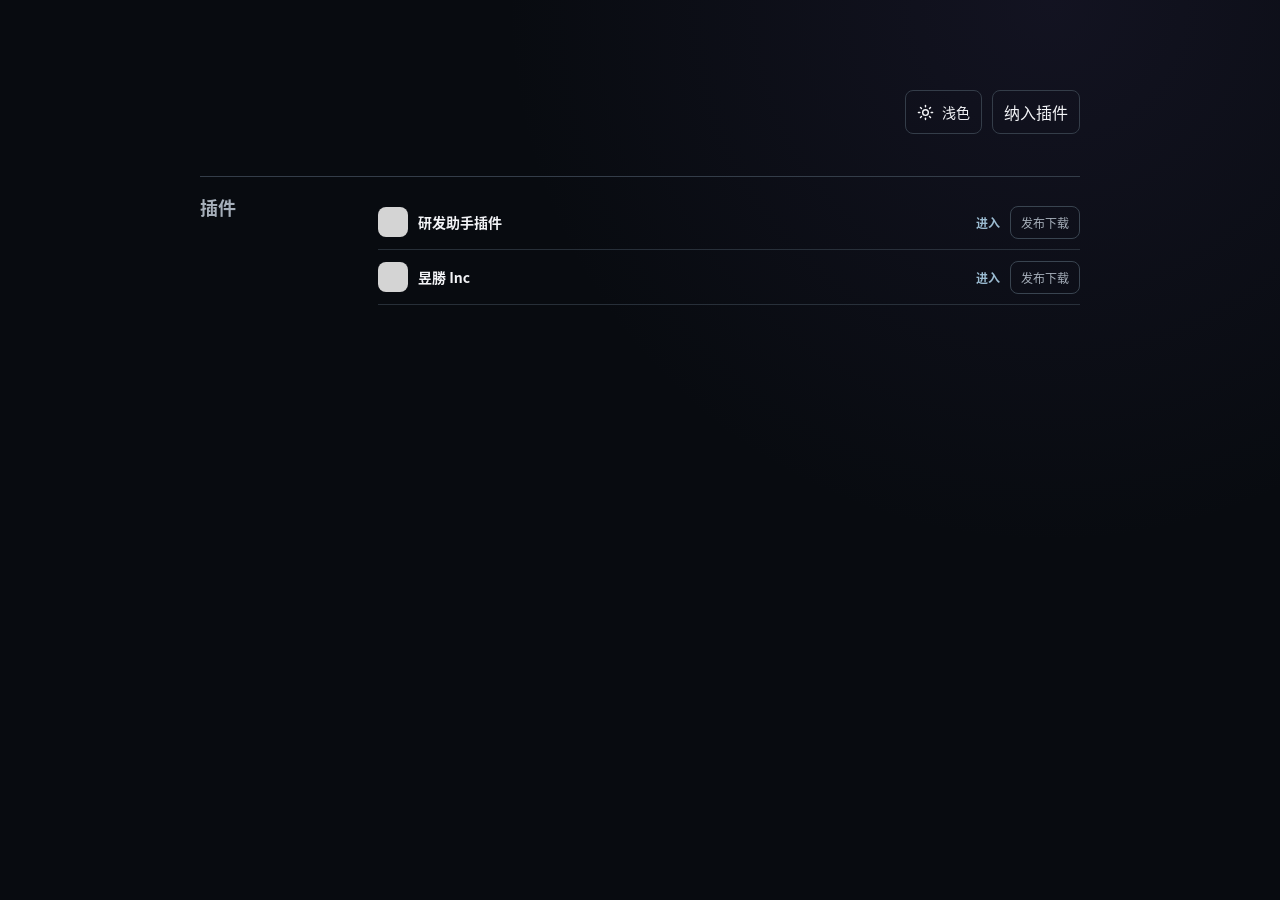
Scenario: PortalShell › passes remote browser-upload capability to Hub management without hiding actions
(page scrolled)
Click the button "纳入插件": (1036, 112) [992,90,1080,134]
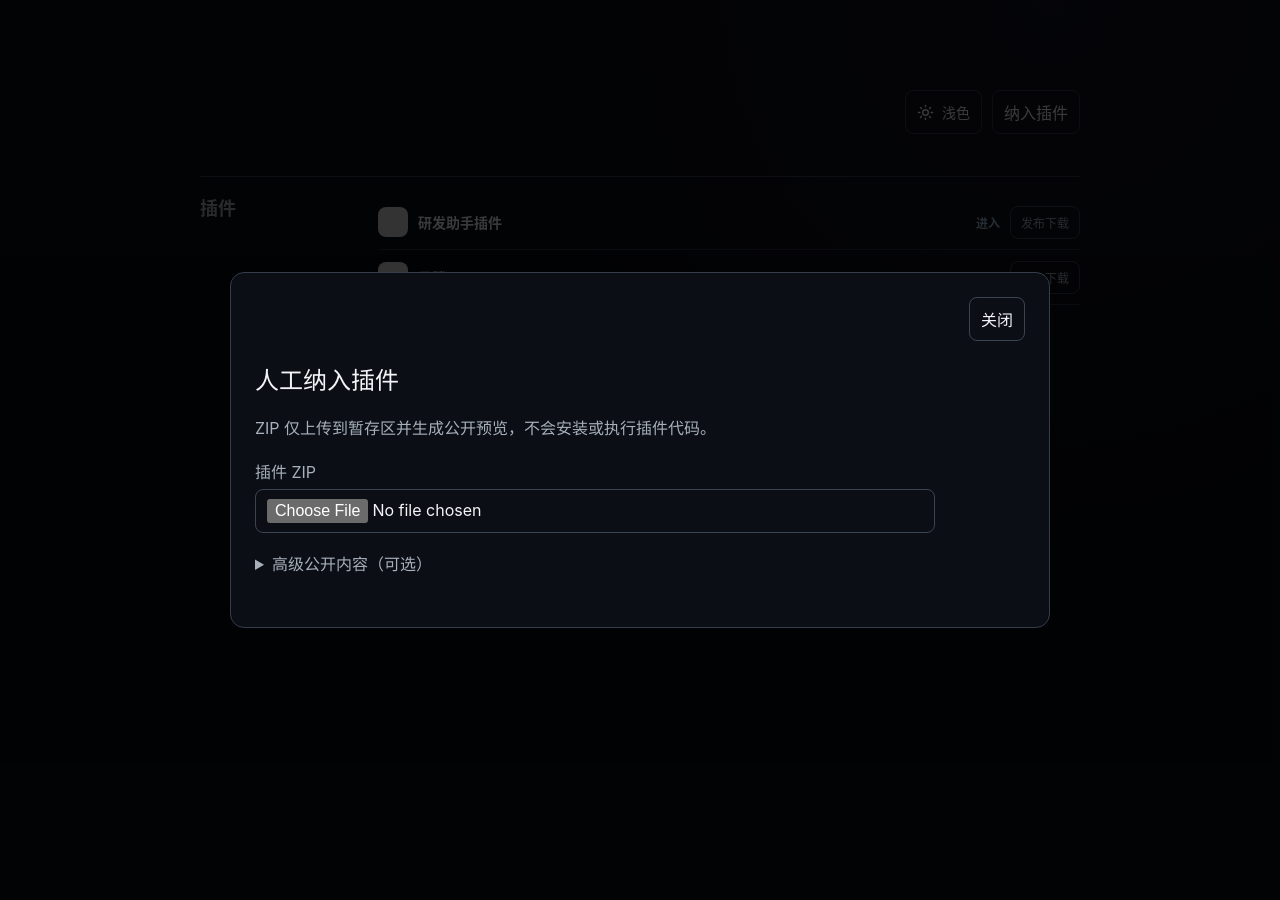
Expected: the file field labelled "插件 ZIP" is shown, [255,489,935,533]
